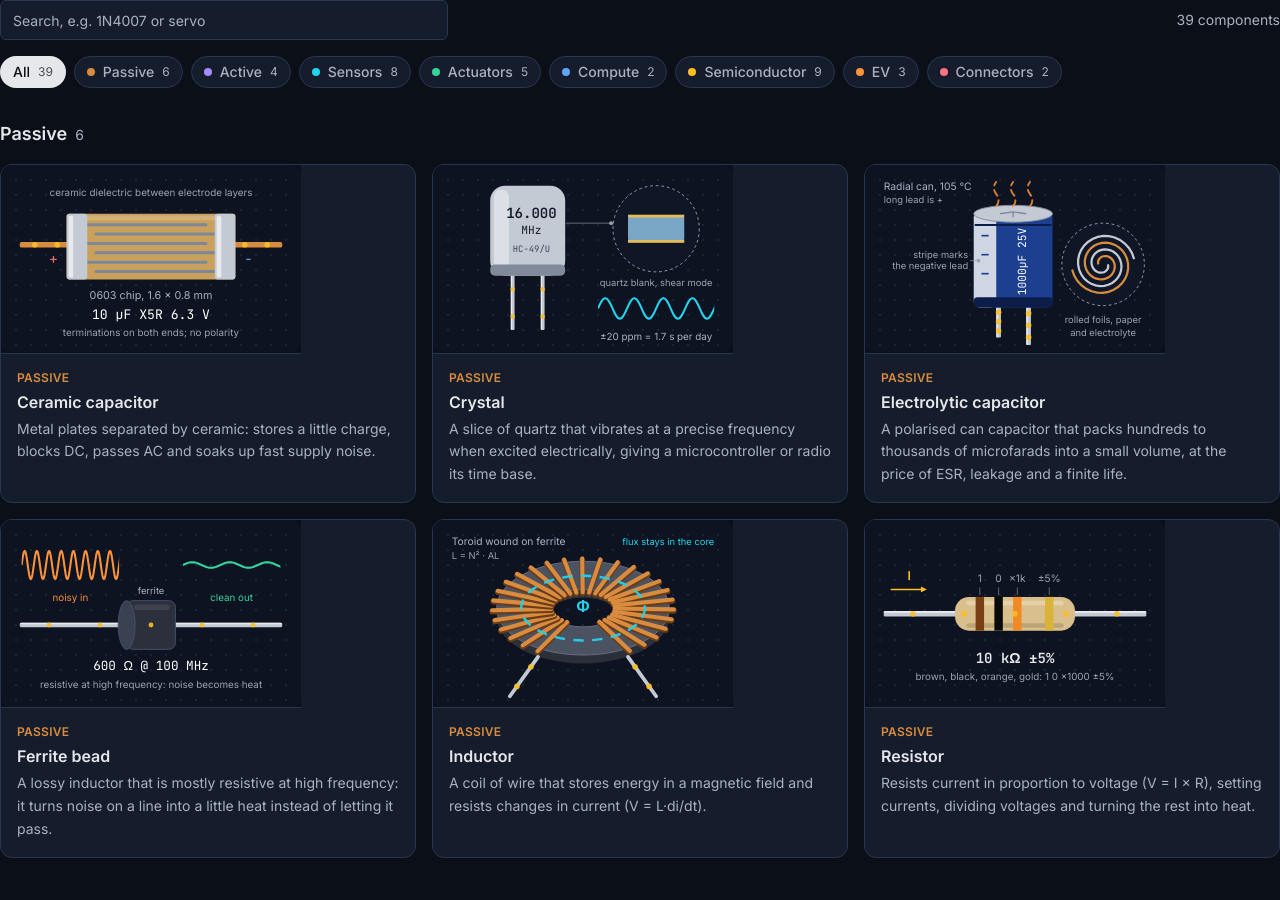
Test: EncyclopediaBrowser › opens a detail dialog with every section when a card is clicked
The image size is (1280, 900).
Click the button with aria-label "Resistor": (1072, 688) [864,519,1279,858]
(page scrolled)
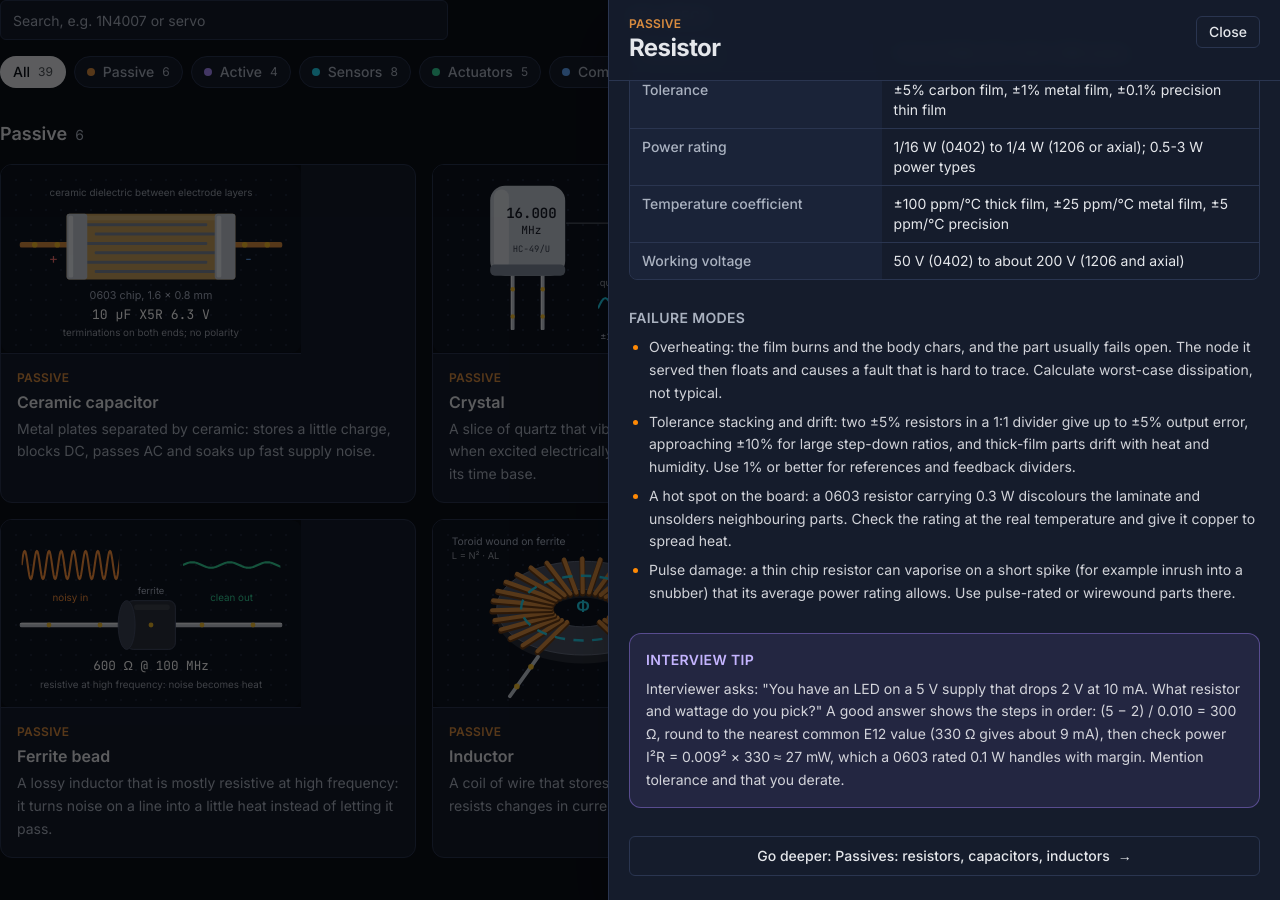
Check: the heading "Resistor" is shown, box [629,32,720,64]
Check: the heading "Key specs" is shown, box [629,7,710,24]
Check: the heading "Failure modes" is shown, box [629,309,745,326]
